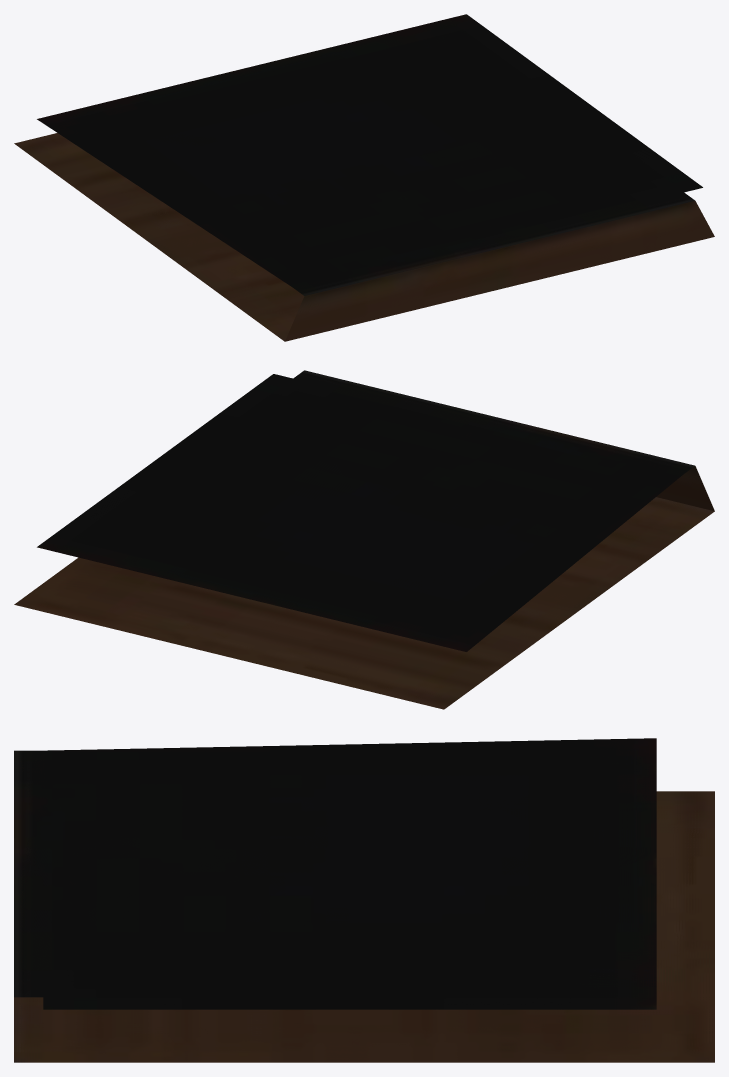
Rendered from link_8__shelf-11.glb.
The picture shows the model from 3 angles, top to bottom: view 1: azimuth 30°, elevation 25°; view 2: azimuth 150°, elevation 25°; view 3: azimuth 270°, elevation 25°; orthographic projection. The views are drawn at different scales.
Visible parts, largest first — view 1: world; view 2: world; view 3: world.
Boxes of the visible parts, x1,y1,x2,y2 form: world: [14, 14, 714, 341]; world: [14, 370, 714, 709]; world: [14, 738, 714, 1062].
Bounding box in the file's own units: 0.1155 × 0.0105 × 0.126.
1 material, 1 textured.
